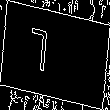L_S: (44, 28, 66, 82)
